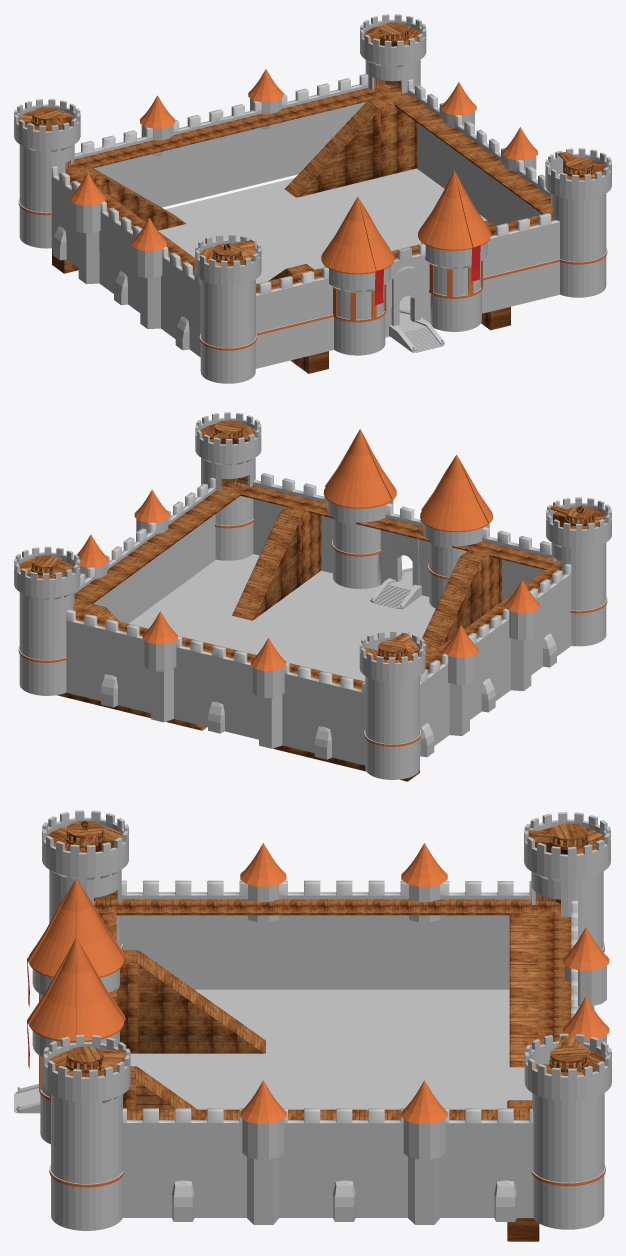
The model's file is castel91.fbx.
3 views of the same model, one above another, from view 1: azimuth 30°, elevation 25°; view 2: azimuth 150°, elevation 25°; view 3: azimuth 270°, elevation 25° (orthographic). The views are drawn at different scales.
Visible parts, largest first — view 1: Paredes, Maderas, Plane, Torre1, Torre4, Torre2, Torre3, Entrada; view 2: Paredes, Maderas, Plane, Torre2, Torre3, Torre1, Torre4, Entrada; view 3: Paredes, Plane, Maderas, Torre3, Torre4, Torre2, Torre1, Entrada.
Boxes of the visible parts, x1,y1,x2,y2 form: Paredes: (51, 69, 559, 368); Maderas: (52, 84, 552, 373); Plane: (158, 168, 487, 311); Torre1: (195, 234, 261, 383); Torre4: (545, 148, 611, 297); Torre2: (14, 99, 80, 248); Torre3: (360, 14, 426, 93); Entrada: (389, 266, 444, 352); Paredes: (66, 429, 571, 765); Maderas: (57, 482, 561, 781); Plane: (129, 554, 435, 681); Torre2: (359, 630, 425, 779); Torre3: (14, 546, 80, 695); Torre1: (546, 497, 611, 646); Torre4: (195, 412, 261, 560); Entrada: (370, 533, 421, 609); Paredes: (27, 843, 609, 1224); Plane: (130, 989, 532, 1109); Maderas: (94, 899, 570, 1241); Torre3: (524, 1033, 611, 1229); Torre4: (43, 1035, 130, 1230); Torre2: (524, 812, 610, 952); Torre1: (42, 810, 128, 949); Entrada: (14, 1083, 40, 1113).
Size of the model in its own units: 23168 by 9195 by 22402.
